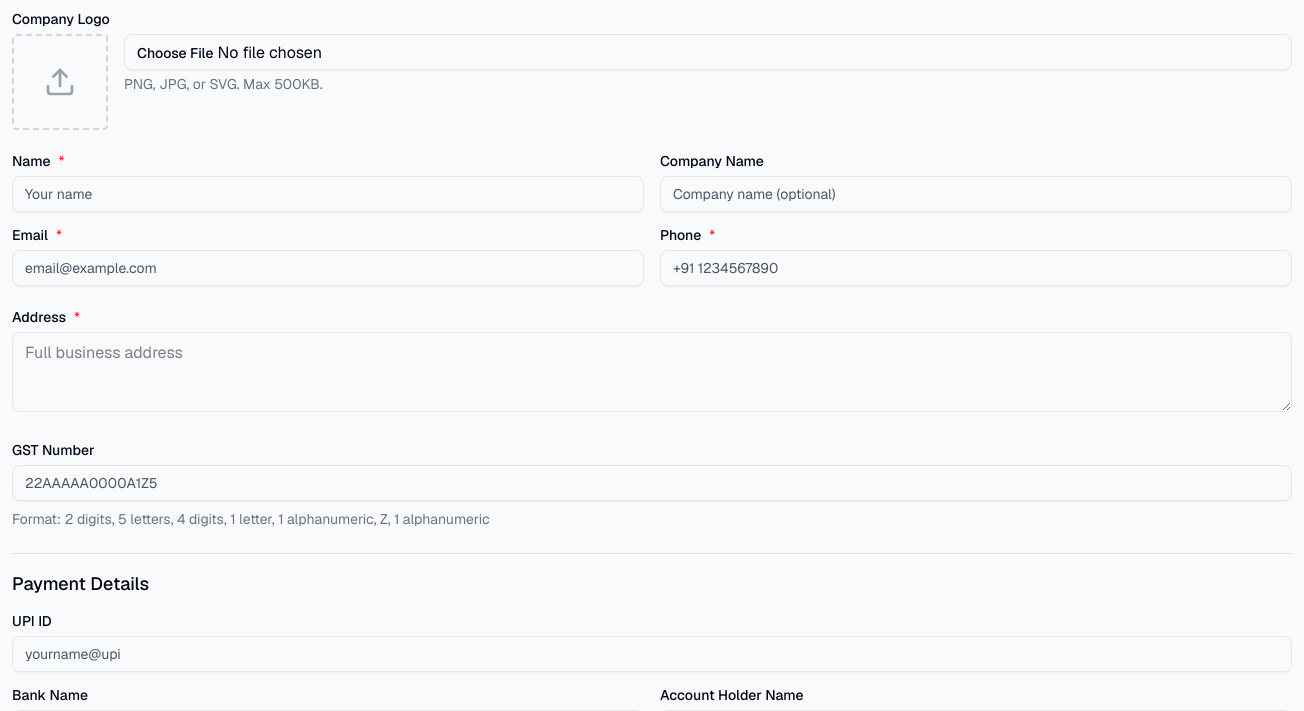
Test: VendorProfile Component › should validate GST number format
Note: Enter invalid GST number
Type "INVALID" into the field labelled "GST Number" at x=652, y=483, box top-left (12, 465), bottom-right (1292, 501)
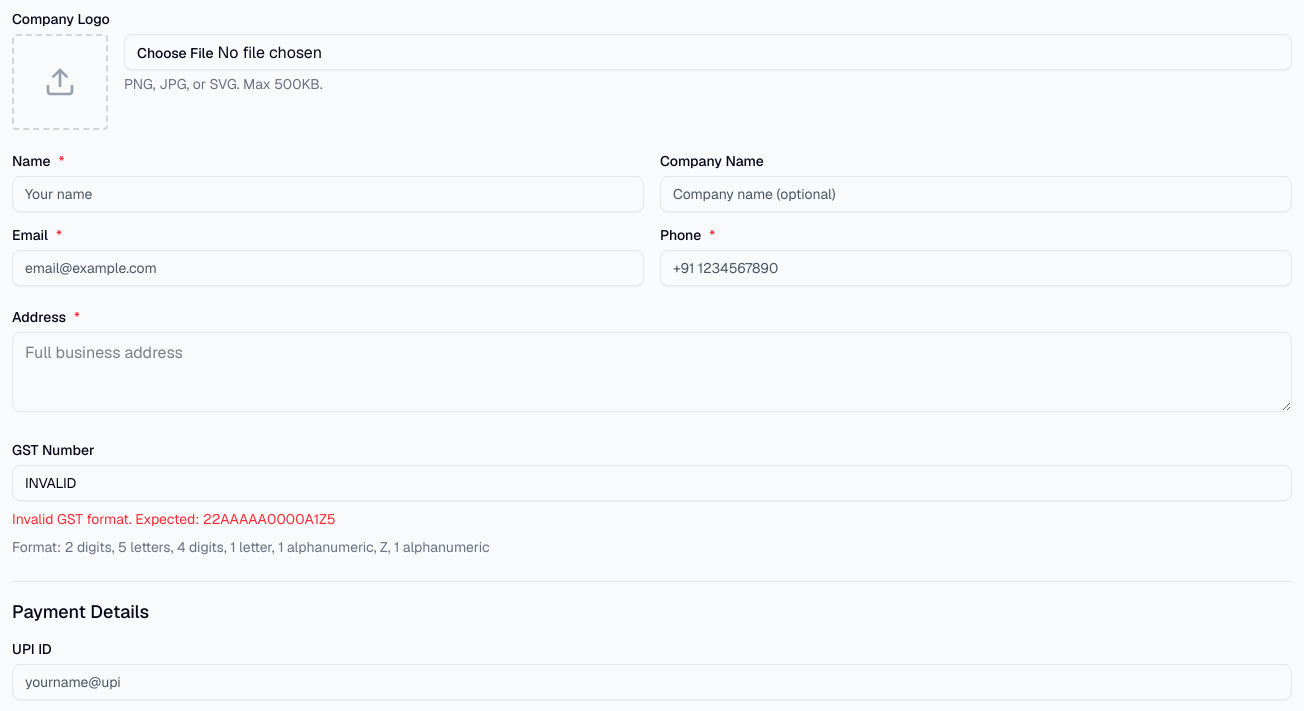
Expected: the text "Invalid GST format. Expected: 22AAAAA0000A1Z5" is shown, top-left (12, 510), bottom-right (336, 528)
